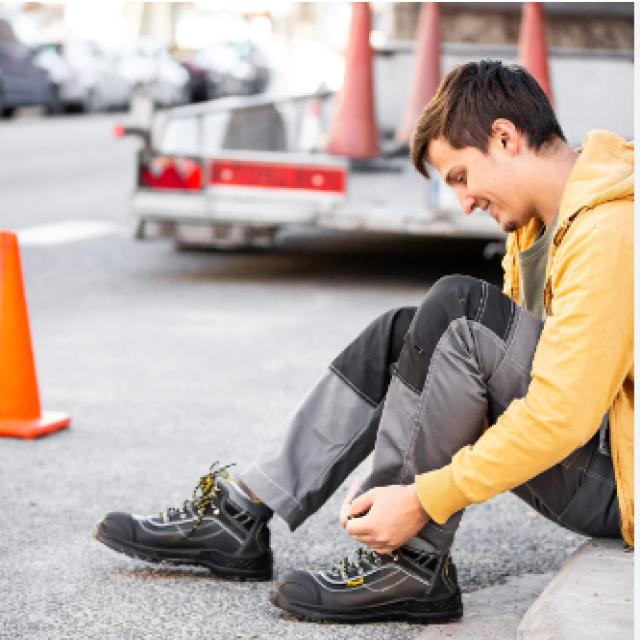boots: (89, 464, 470, 629)
